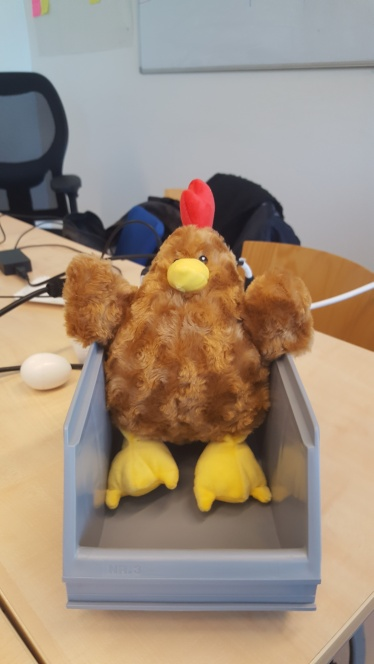chicken_front: (63, 179, 318, 509)
tray_front: (59, 423, 325, 612)
